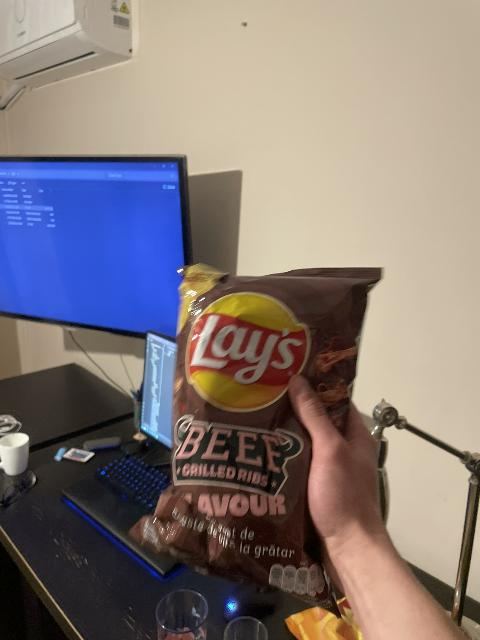Lays Beef Grilled Ribs 125g: (127, 264, 382, 602)
